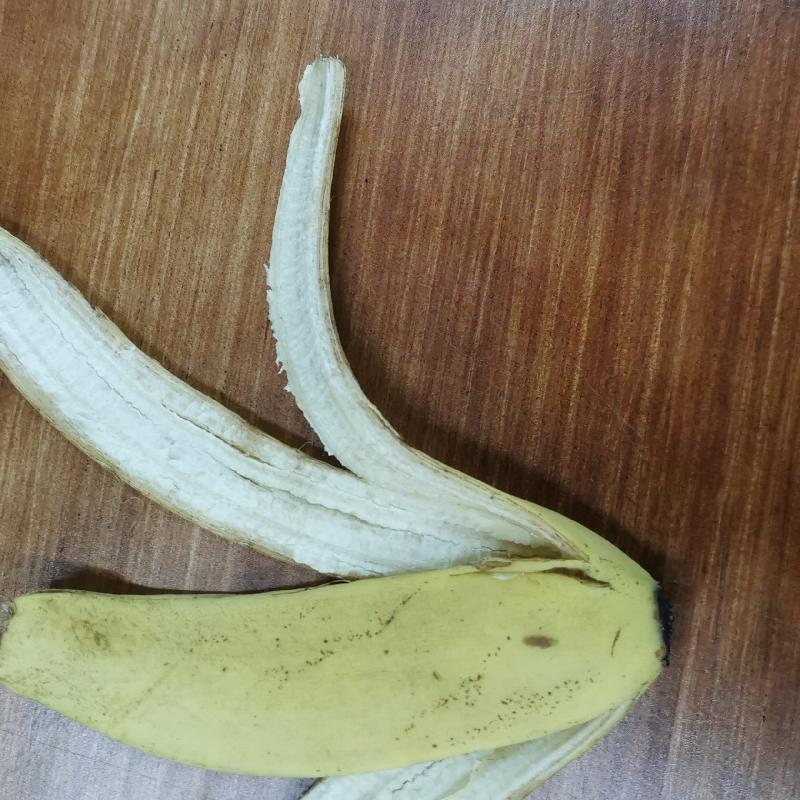bananas: (6, 56, 678, 787)
